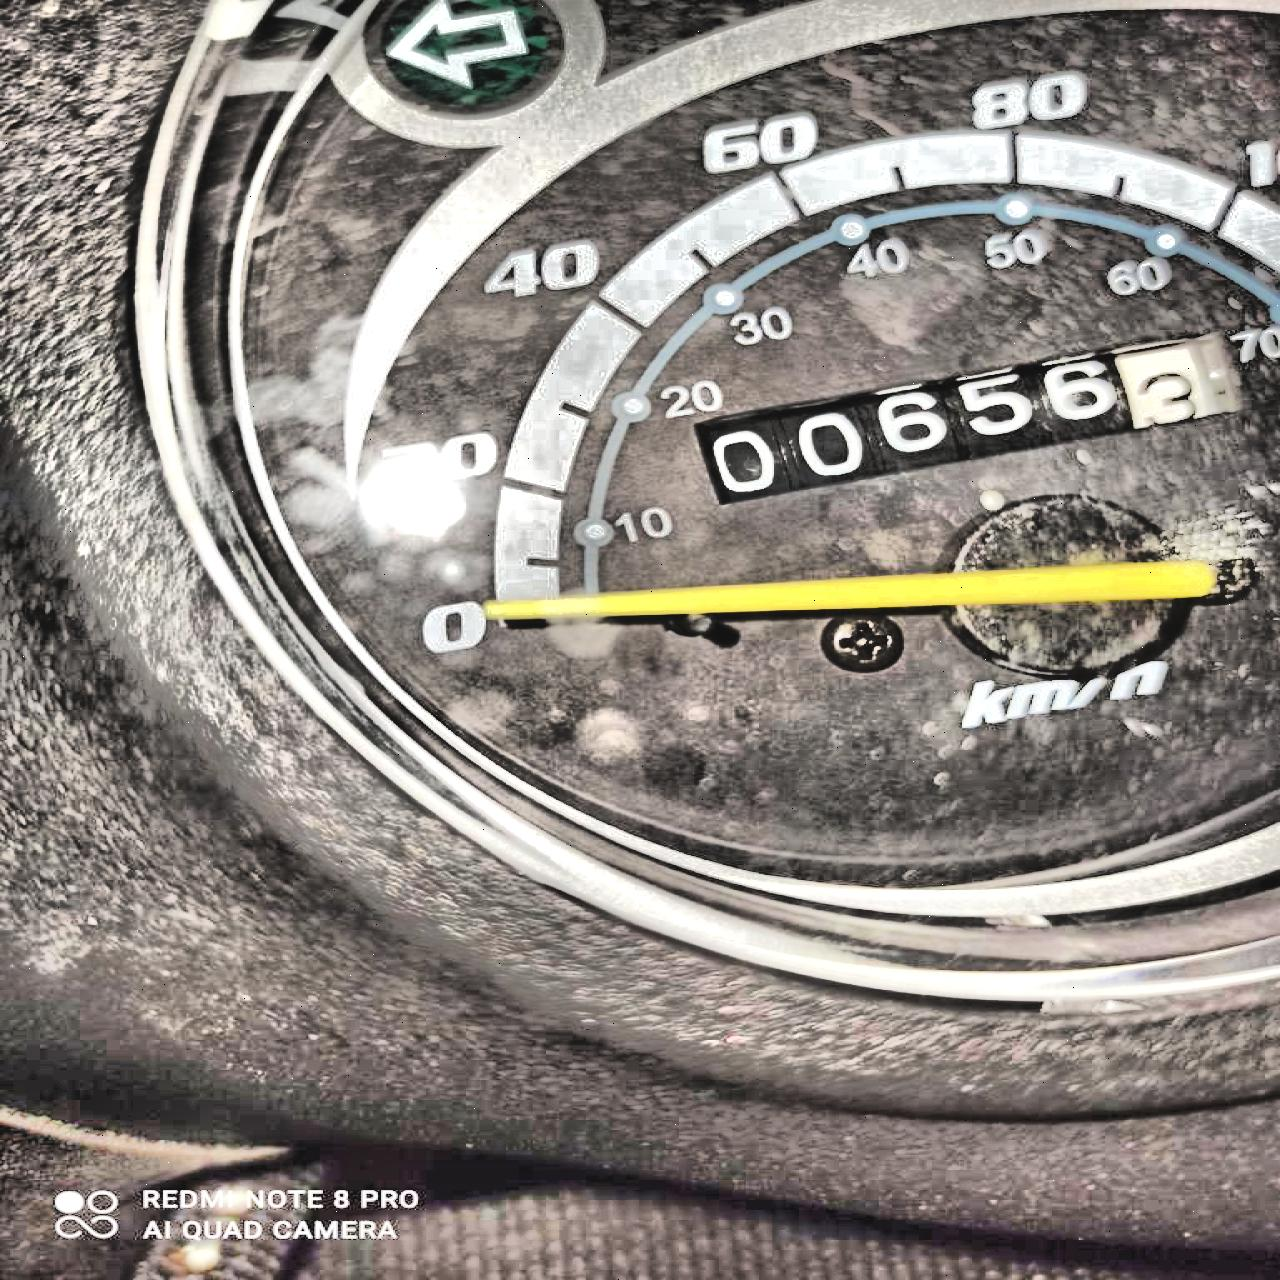0: (790, 408, 865, 478), (706, 424, 777, 495), (689, 377, 722, 411)
3: (1132, 368, 1201, 427)
5: (954, 372, 1035, 437)
6: (1041, 356, 1118, 422), (872, 388, 948, 454)
odometer: (686, 327, 1241, 508)
